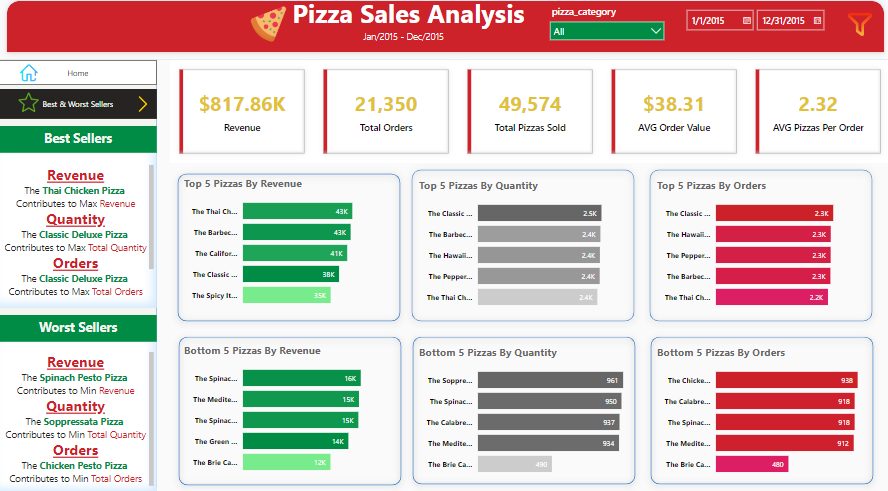

What the dashboard file says about the page in this screenshot:
{"tool":"powerbi","page":{"name":"Best & Worst Sellers","canvas":[1500,840],"ordinal":1},"visuals":[{"type":"shape","box":[0,0,1500.2,112.6],"z":0},{"type":"textbox","box":[473.8,0,428.4,73.9],"z":1000},{"type":"textbox","box":[598.1,57.1,163,33.6],"z":2000},{"type":"cardVisual","fields":{"Data":["_KPI's.Revenue","_KPI's.Total Orders","_KPI's.Total Pizzas Sold","_KPI's.AVG Order Value","_KPI's.AVG Pizzas Per Order"]},"box":[287.3,112.6,1213,173],"z":3000},{"type":"shape","box":[287.3,285.6,399.8,278.9],"z":4000},{"type":"shape","box":[0,112.6,265.4,727.4],"z":14000},{"type":"textbox","box":[0,223.4,265.4,45.4],"z":15000},{"type":"textbox","box":[0,583,265.4,257],"z":16000},{"type":"textbox","box":[0,541,265.4,45.4],"z":17000},{"type":"textbox","box":[0,268.8,265.4,260.4],"z":18000},{"type":"slicer","fields":{"Values":["pizza_sales.pizza_category"]},"box":[915.6,15.1,211.7,75.6],"z":19000},{"type":"slicer","fields":{"Values":["pizza_sales.order_date"]},"box":[1142.4,18.5,262.1,75.6],"z":20000},{"type":"image","box":[416.6,15.1,72.2,73.9],"z":21000},{"type":"image","box":[1412.9,13.4,67.2,75.6],"z":22000},{"type":"shape","box":[680.4,283.9,399.8,280.6],"z":22001},{"type":"shape","box":[1080.2,283.9,399.8,280.6],"z":22002},{"type":"shape","box":[289,564.5,399.8,275.5],"z":22003},{"type":"shape","box":[682.1,564.5,399.8,273.8],"z":22004},{"type":"shape","box":[1081.9,564.5,399.8,273.8],"z":22005},{"type":"barChart","title":"Top 5 Pizzas By Revenue","fields":{"Category":["pizza_sales.pizza_name"],"Y":["Sum(pizza_sales.total_price)"]},"box":[305.8,302.4,362.9,238.6],"z":22006},{"type":"barChart","title":"Top 5 Pizzas By Quantity","fields":{"Category":["pizza_sales.pizza_name"],"Y":["Sum(pizza_sales.quantity)"]},"box":[700.6,305.8,362.9,238.6],"z":22007},{"type":"barChart","title":"Top 5 Pizzas By Orders","fields":{"Category":["pizza_sales.pizza_name"],"Y":["Count(pizza_sales.order_id)"]},"box":[1100.4,305.8,362.9,238.6],"z":22008},{"type":"barChart","title":"Bottom 5 Pizzas By Orders","fields":{"Category":["pizza_sales.pizza_name"],"Y":["Count(pizza_sales.order_id)"]},"box":[1100.4,586.3,362.9,238.6],"z":22009},{"type":"barChart","title":"Bottom 5 Pizzas By Quantity","fields":{"Category":["pizza_sales.pizza_name"],"Y":["Sum(pizza_sales.quantity)"]},"box":[700.6,586.3,362.9,238.6],"z":22010},{"type":"barChart","title":"Bottom 5 Pizzas By Revenue","fields":{"Category":["pizza_sales.pizza_name"],"Y":["Sum(pizza_sales.total_price)"]},"box":[305.8,583,362.9,238.6],"z":22011},{"type":"pageNavigator","box":[0,112.6,265.4,42],"z":22012},{"type":"pageNavigator","box":[0,161.3,265.4,50.4],"z":22013},{"type":"image","box":[30.2,109.2,40.3,48.7],"z":22014},{"type":"image","box":[26.9,161.3,45.4,43.7],"z":22015},{"type":"image","box":[218.4,168,47,37],"z":22016}]}

Visuals, with their boxes in screenshot pixels (x1, y1, x2, y2), scaled from the page's 1500x840 canvas onto the 888x491 screenshot:
shape: select_region(0, 0, 887, 66)
textbox: select_region(280, 0, 534, 43)
textbox: select_region(354, 33, 451, 53)
cardVisual - _KPI's.Revenue x _KPI's.Total Orders: select_region(170, 66, 887, 167)
shape: select_region(170, 167, 407, 330)
shape: select_region(0, 66, 157, 490)
textbox: select_region(0, 131, 157, 157)
textbox: select_region(0, 341, 157, 490)
textbox: select_region(0, 316, 157, 343)
textbox: select_region(0, 157, 157, 309)
slicer - pizza_sales.pizza_category: select_region(542, 9, 667, 53)
slicer - pizza_sales.order_date: select_region(676, 11, 831, 55)
image: select_region(247, 9, 289, 52)
image: select_region(836, 8, 876, 52)
shape: select_region(403, 166, 639, 330)
shape: select_region(639, 166, 876, 330)
shape: select_region(171, 330, 408, 490)
shape: select_region(404, 330, 640, 490)
shape: select_region(640, 330, 877, 490)
"Top 5 Pizzas By Revenue" barChart: select_region(181, 177, 396, 316)
"Top 5 Pizzas By Quantity" barChart: select_region(415, 179, 630, 318)
"Top 5 Pizzas By Orders" barChart: select_region(651, 179, 866, 318)
"Bottom 5 Pizzas By Orders" barChart: select_region(651, 343, 866, 482)
"Bottom 5 Pizzas By Quantity" barChart: select_region(415, 343, 630, 482)
"Bottom 5 Pizzas By Revenue" barChart: select_region(181, 341, 396, 480)
pageNavigator: select_region(0, 66, 157, 90)
pageNavigator: select_region(0, 94, 157, 124)
image: select_region(18, 64, 42, 92)
image: select_region(16, 94, 43, 120)
image: select_region(129, 98, 157, 120)
